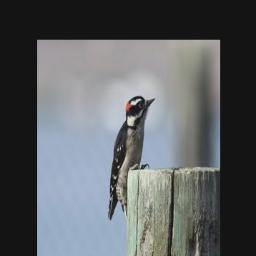Woodpecker: (107, 95, 156, 219)
